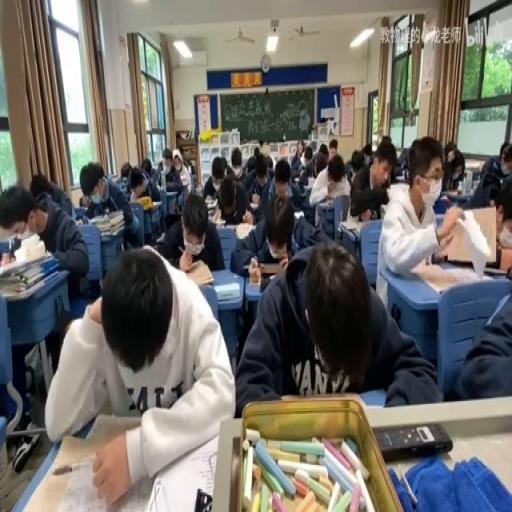calculator: (180, 257, 214, 286), (340, 214, 371, 238), (2, 230, 40, 249), (244, 260, 282, 278), (214, 282, 240, 300), (233, 222, 254, 240), (432, 193, 451, 212), (483, 264, 509, 276), (210, 206, 224, 224), (445, 189, 464, 199), (179, 170, 190, 186), (204, 196, 218, 208), (88, 213, 104, 222), (320, 196, 334, 206), (102, 170, 116, 180), (306, 175, 315, 188), (222, 222, 236, 230), (293, 208, 302, 219), (150, 198, 162, 206), (249, 201, 260, 209), (74, 216, 82, 225), (267, 273, 277, 280)
paper: (45, 246, 230, 502), (236, 234, 434, 412), (375, 135, 480, 312), (1, 175, 88, 303), (450, 273, 511, 401), (230, 188, 320, 273), (152, 189, 224, 273), (75, 159, 136, 255), (349, 141, 394, 220), (458, 141, 510, 209), (308, 151, 350, 222), (130, 160, 162, 224), (245, 152, 273, 211), (198, 156, 230, 206), (158, 148, 188, 200), (441, 142, 465, 189), (493, 183, 512, 241), (28, 170, 50, 200), (272, 158, 291, 192), (228, 148, 246, 182), (290, 145, 306, 179), (290, 181, 308, 209), (396, 145, 410, 178), (361, 142, 373, 168), (349, 150, 362, 174), (118, 162, 132, 184), (141, 158, 152, 178), (328, 139, 338, 161), (500, 140, 510, 160), (380, 135, 394, 149), (258, 139, 268, 158), (264, 154, 274, 172), (187, 159, 196, 179), (302, 148, 312, 163), (80, 194, 90, 208), (318, 144, 328, 156), (312, 161, 319, 176), (173, 196, 179, 212), (253, 144, 259, 158), (156, 158, 163, 169)
person: (374, 422, 451, 461), (193, 488, 211, 509), (430, 250, 446, 264)
